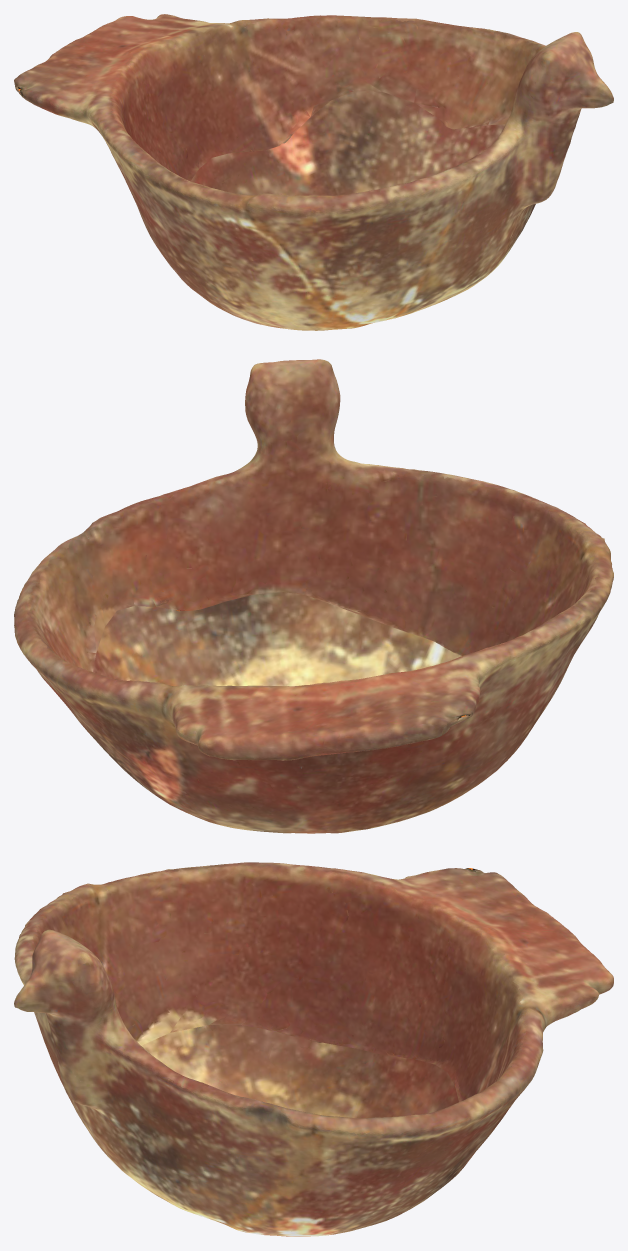
Rendered from Ark_HM_173_HI.glb.
3 views of the same model, one above another, from view 1: azimuth 30°, elevation 25°; view 2: azimuth 150°, elevation 25°; view 3: azimuth 270°, elevation 25° (orthographic). The views are drawn at different scales.
Size of the model in its own units: 0.4712 by 0.2841 by 0.5002.
Materials: 1 (1 with a texture image).
